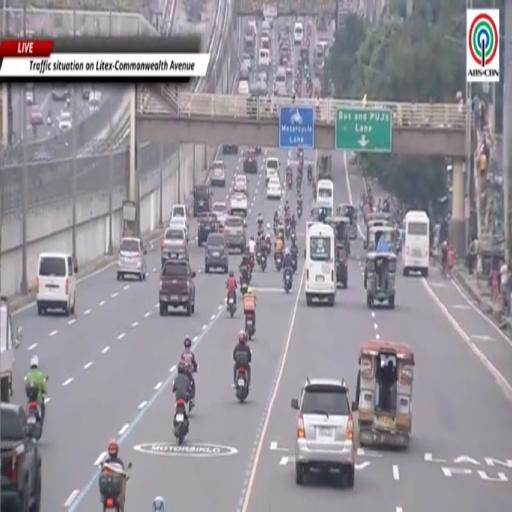bus: (305, 222, 336, 306), (402, 211, 429, 277), (316, 180, 333, 215)
car: (292, 378, 357, 487), (36, 253, 78, 316), (117, 237, 146, 280), (161, 227, 188, 267), (205, 233, 228, 273), (224, 216, 246, 252), (193, 184, 212, 216), (198, 214, 217, 246), (168, 217, 188, 241), (230, 192, 248, 217), (210, 160, 226, 186), (171, 204, 188, 227), (212, 202, 227, 228), (243, 148, 258, 174), (265, 157, 279, 184), (267, 178, 282, 199), (51, 84, 68, 101), (234, 175, 247, 196), (59, 111, 72, 131), (30, 105, 43, 125), (89, 90, 101, 111), (81, 84, 93, 102), (294, 22, 303, 44), (239, 67, 250, 82), (239, 80, 250, 94), (257, 70, 268, 84), (248, 20, 257, 37), (26, 86, 34, 105), (223, 144, 238, 154), (242, 54, 251, 70), (255, 147, 261, 154)
jeepney: (355, 341, 414, 447), (364, 252, 396, 309), (325, 216, 350, 255), (364, 219, 391, 249), (367, 226, 396, 252), (337, 203, 357, 239)
motorcycle: (99, 462, 132, 511), (26, 383, 44, 440), (174, 399, 188, 444), (235, 367, 249, 403), (246, 313, 255, 341), (283, 268, 293, 293), (227, 294, 236, 318), (291, 251, 298, 273), (265, 235, 272, 255), (275, 252, 282, 271), (260, 252, 266, 271), (241, 280, 248, 295), (285, 223, 291, 238), (274, 221, 280, 236), (287, 173, 293, 188), (291, 229, 296, 246), (258, 224, 263, 237), (297, 206, 302, 218), (308, 170, 312, 184), (297, 181, 301, 194)
truck: (0, 404, 41, 510), (0, 296, 22, 402), (159, 260, 196, 315)
